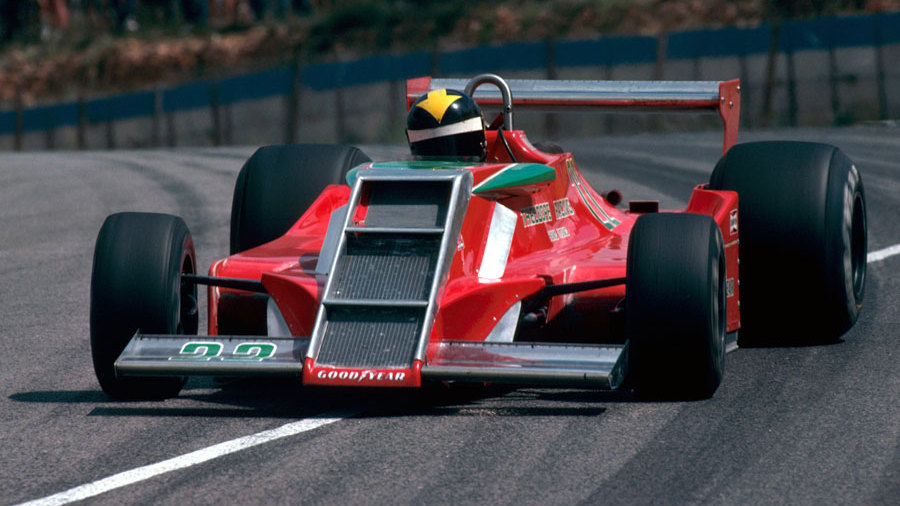f1_car: (70, 63, 881, 423)
